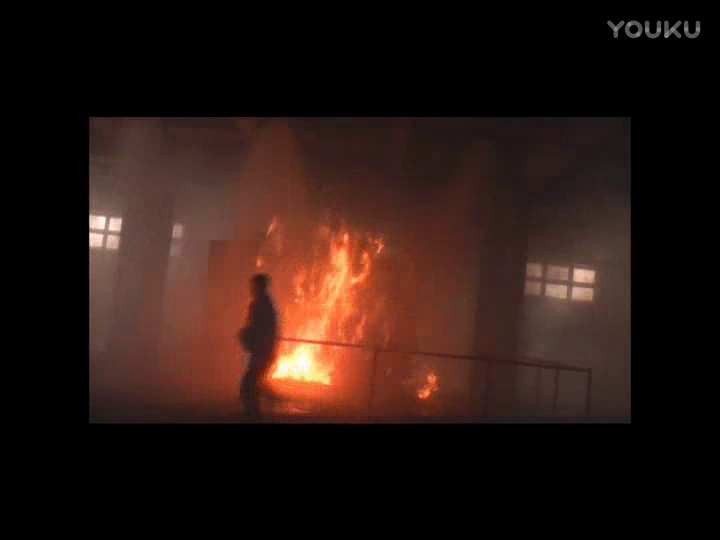fire: (271, 234, 376, 384), (415, 370, 440, 399)
